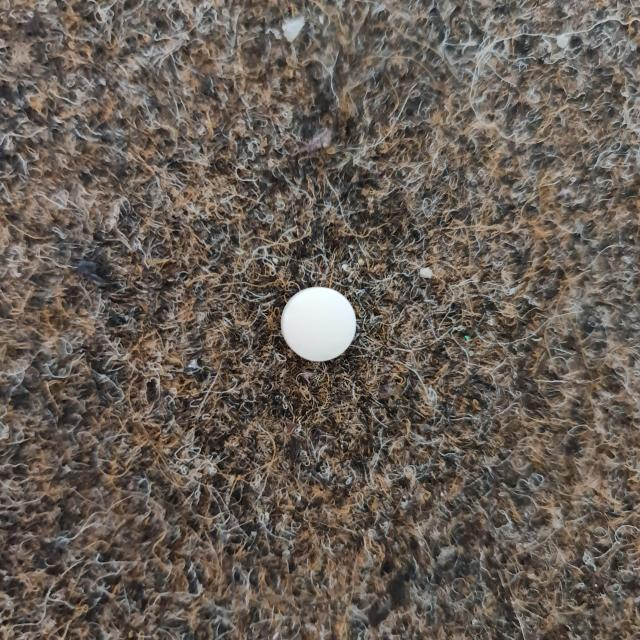pill: (278, 283, 362, 363)
